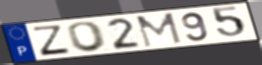2: (106, 17, 145, 51)
5: (209, 5, 249, 41)
9: (182, 12, 210, 42)
M: (134, 11, 184, 49)
O: (66, 20, 110, 53)
Z: (32, 24, 73, 57)
